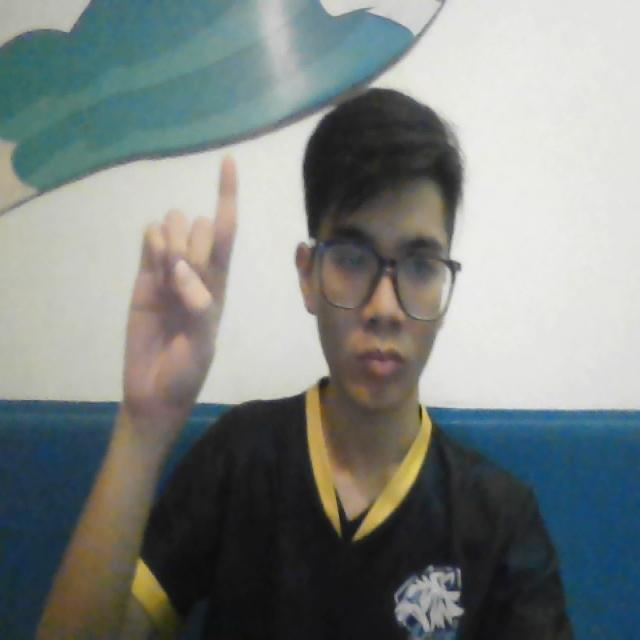D: (117, 152, 252, 414)
